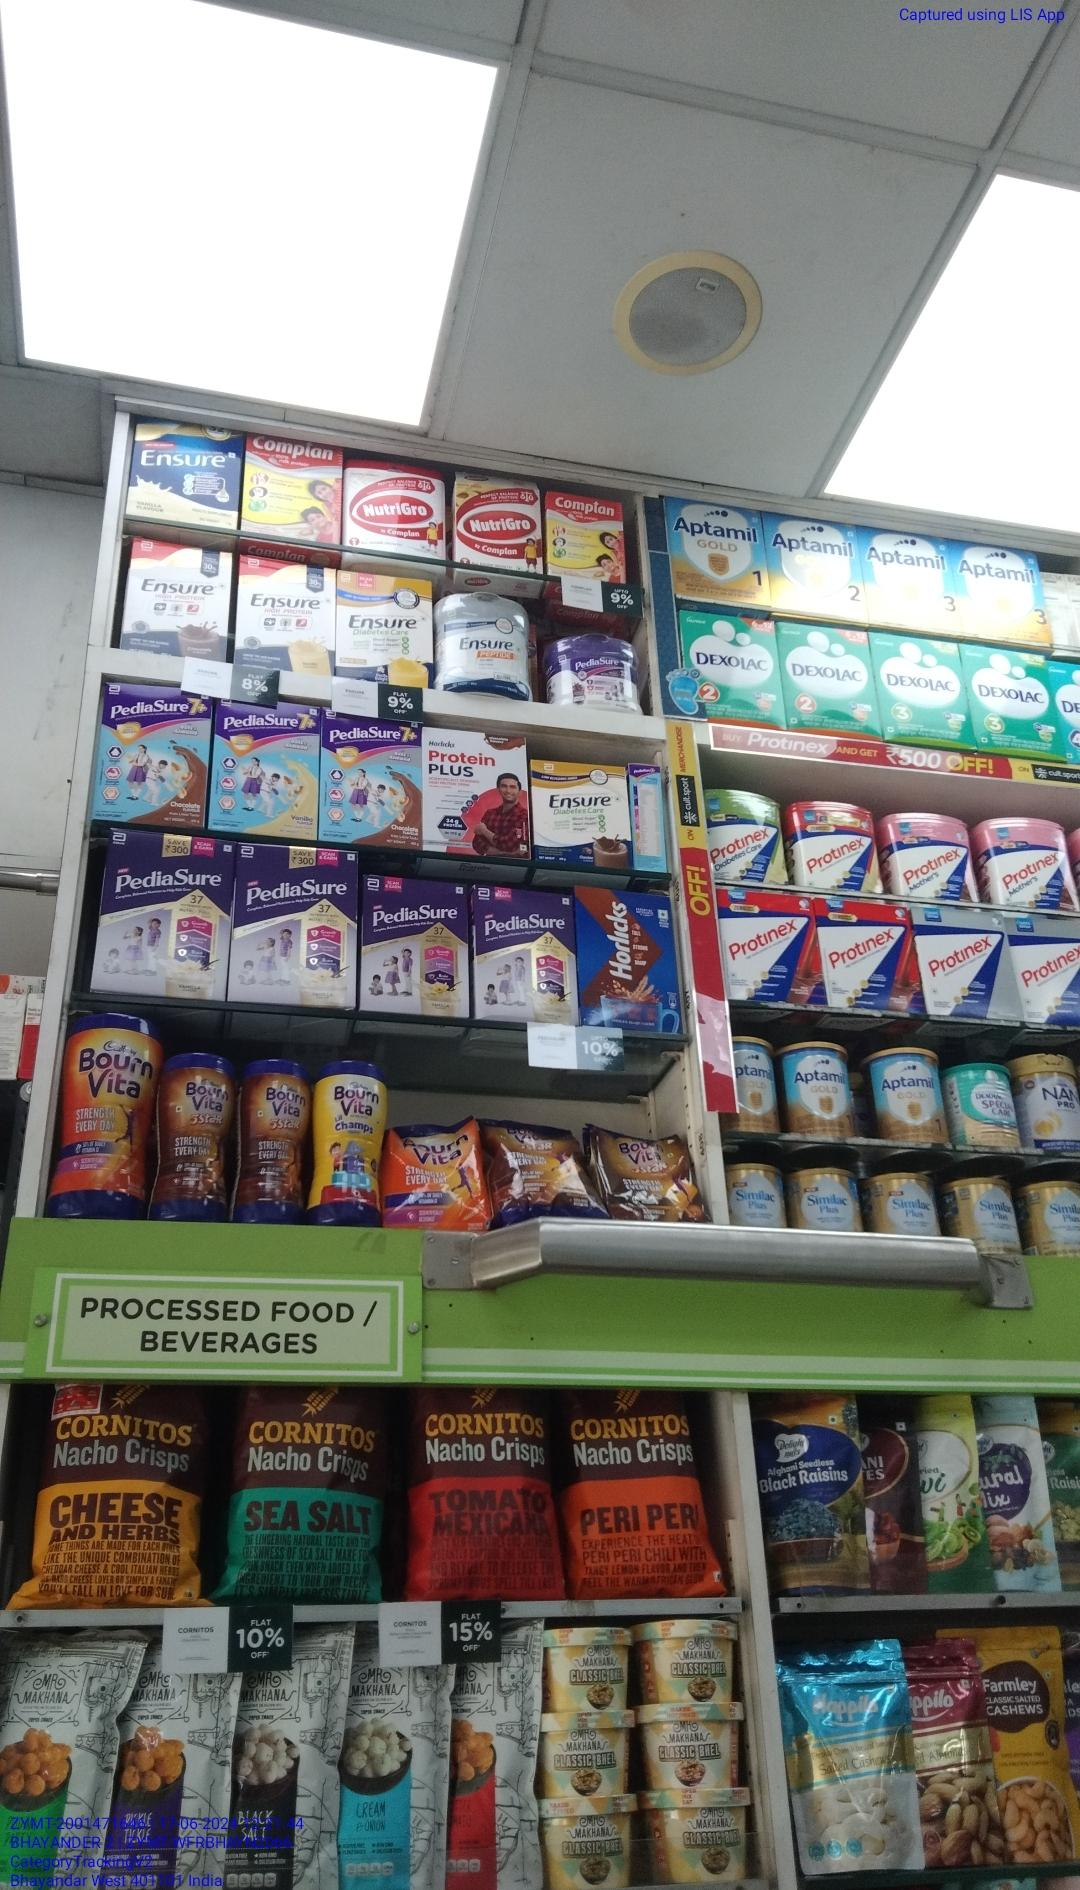COMPLAN_KESAR_BADAM_500_GMS_PACK: (244, 431, 343, 541), (546, 492, 626, 585)
ENSURE_VANILLA_400_G_PACK: (132, 415, 239, 526)
PEDIASURE_7_PLUS_CHOCOLATE_400_G_PACK: (100, 683, 208, 829), (322, 710, 421, 848)
